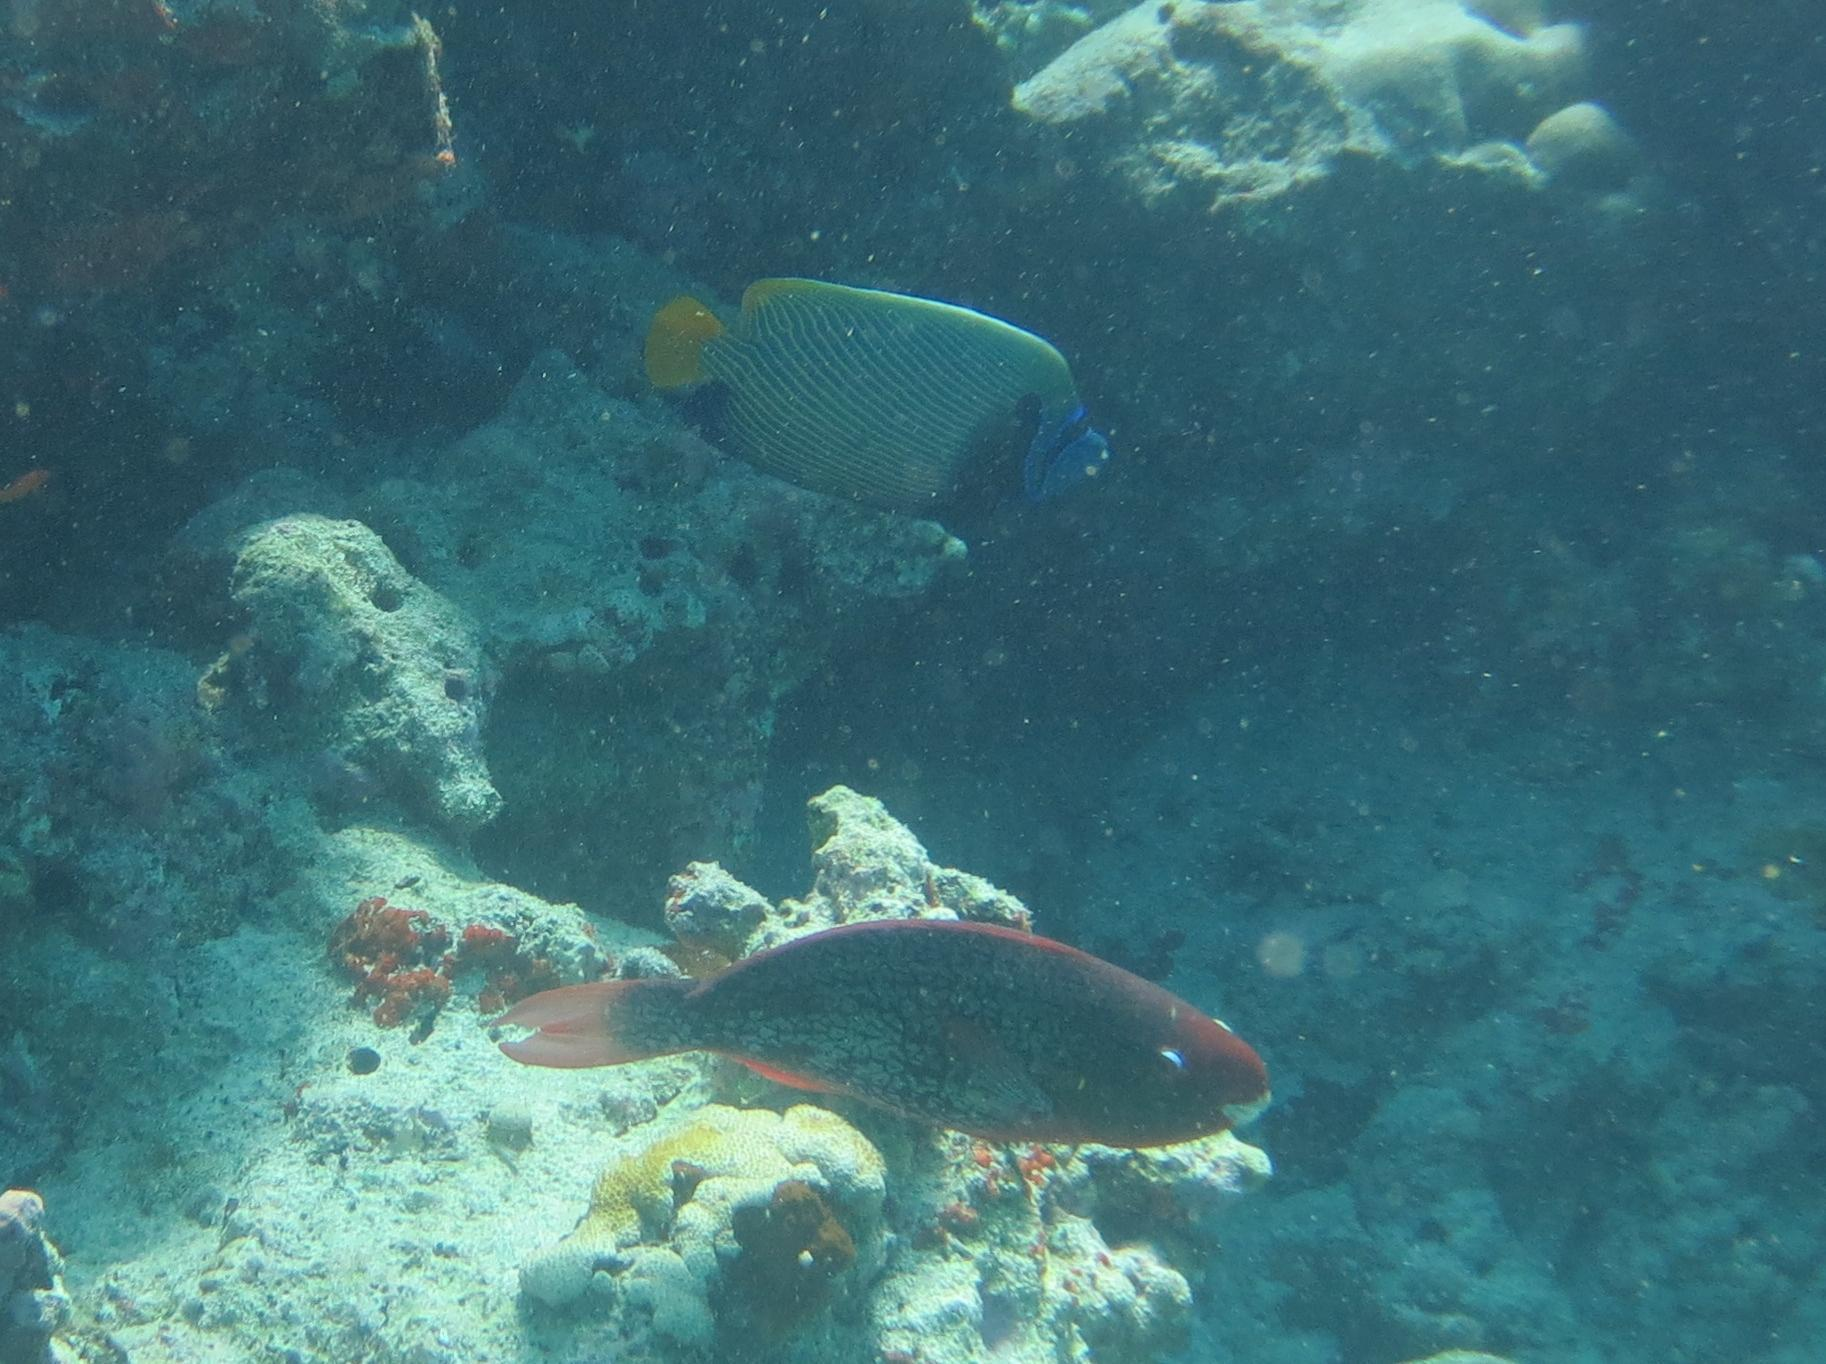Fish: (626, 228, 1134, 549)
